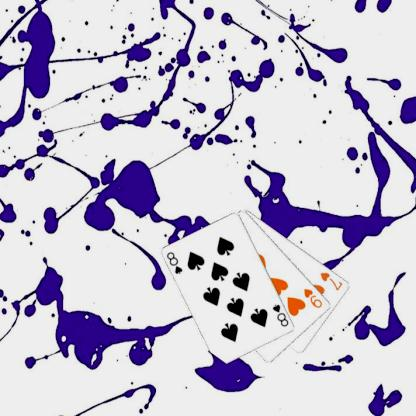7H: (318, 269, 344, 292)
8S: (270, 301, 290, 328), (164, 249, 184, 276)
9H: (302, 286, 324, 309)
